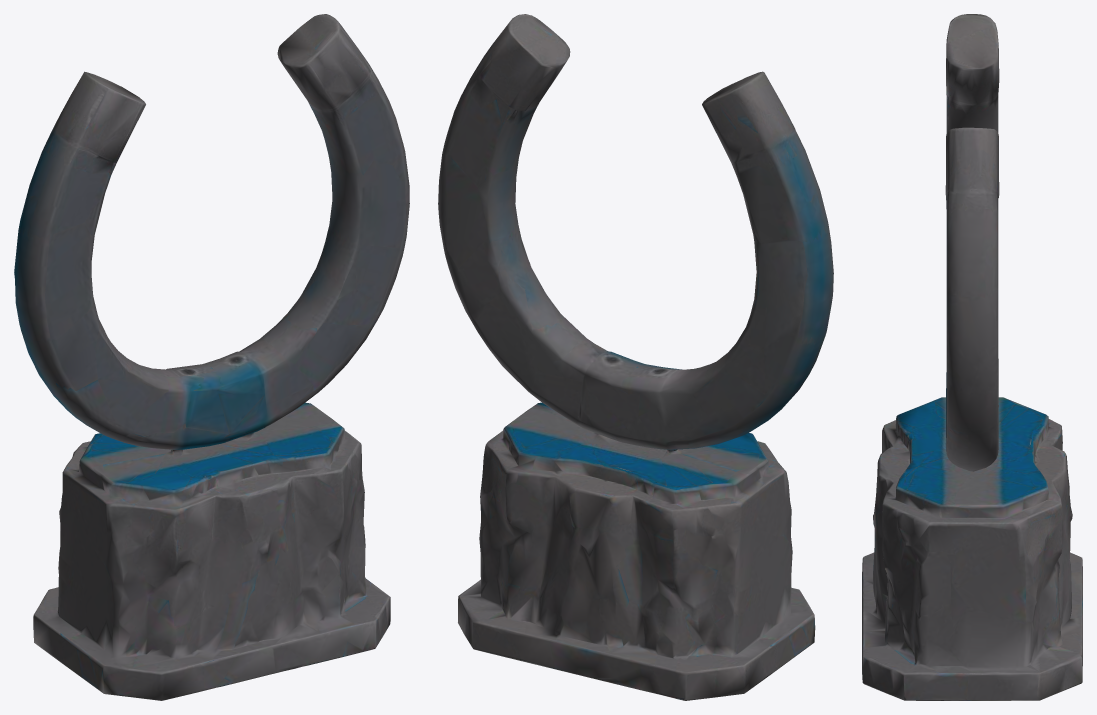
File: poMagnet.fc2c4e1a.glb
3 renders of one model, left to right at view 1: azimuth 30°, elevation 25°; view 2: azimuth 150°, elevation 25°; view 3: azimuth 270°, elevation 25°, orthographic. The views are drawn at different scales.
Size of the model in its own units: 1.3 by 1.9 by 0.676.
Materials: 1 (1 with a texture image).
